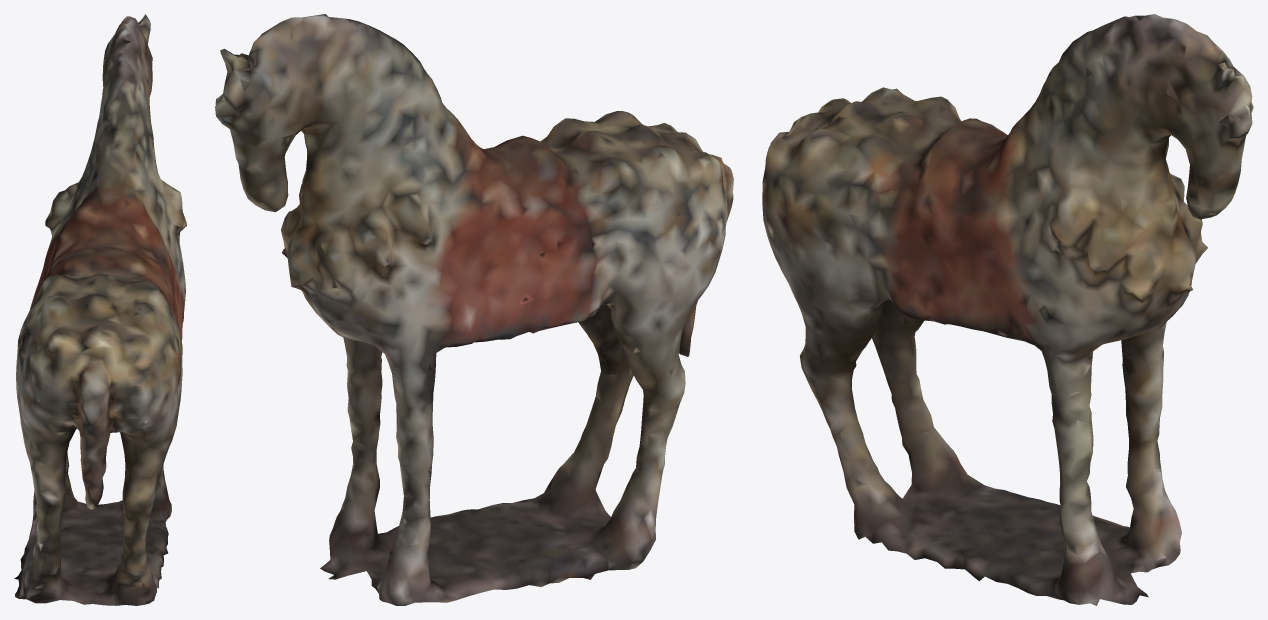
Rendered from cheval.glb.
3 views of the same model, side by side, from view 1: azimuth 30°, elevation 25°; view 2: azimuth 150°, elevation 25°; view 3: azimuth 270°, elevation 25° (orthographic). The views are drawn at different scales.
Parts seen in each view (by area): view 1: Stereo textured mesh_Material0_0.005; view 2: Stereo textured mesh_Material0_0.005; view 3: Stereo textured mesh_Material0_0.005.
Boxes of the visible parts, <box> form: Stereo textured mesh_Material0_0.005: <box>14,14,186,605</box>; Stereo textured mesh_Material0_0.005: <box>215,14,733,605</box>; Stereo textured mesh_Material0_0.005: <box>762,14,1253,605</box>.
Size of the model in its own units: 27.85 by 46.84 by 35.54.
